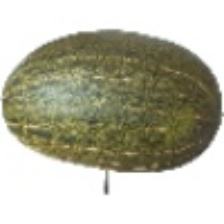honeydew: (17, 7, 209, 197)
